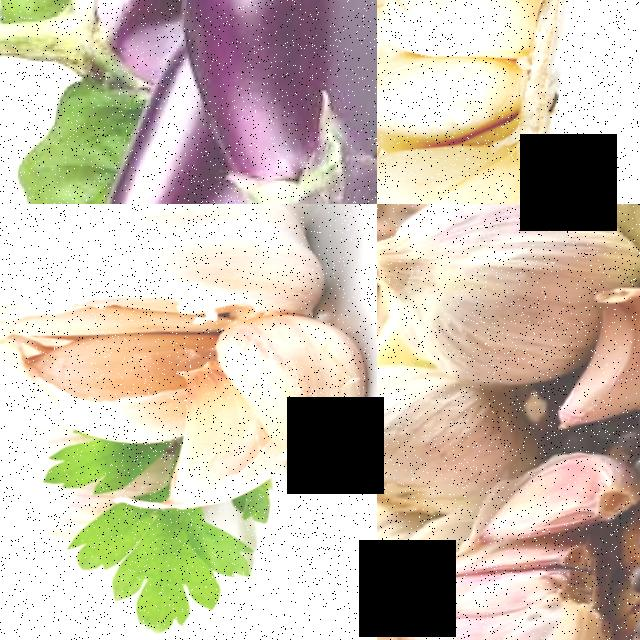eggplant: (151, 0, 377, 204)
garlic: (377, 204, 624, 387), (17, 204, 343, 341), (377, 0, 592, 204), (220, 309, 377, 465), (388, 535, 611, 640), (377, 364, 519, 522), (166, 364, 291, 516), (25, 329, 225, 422), (488, 448, 640, 547), (554, 288, 640, 435)
